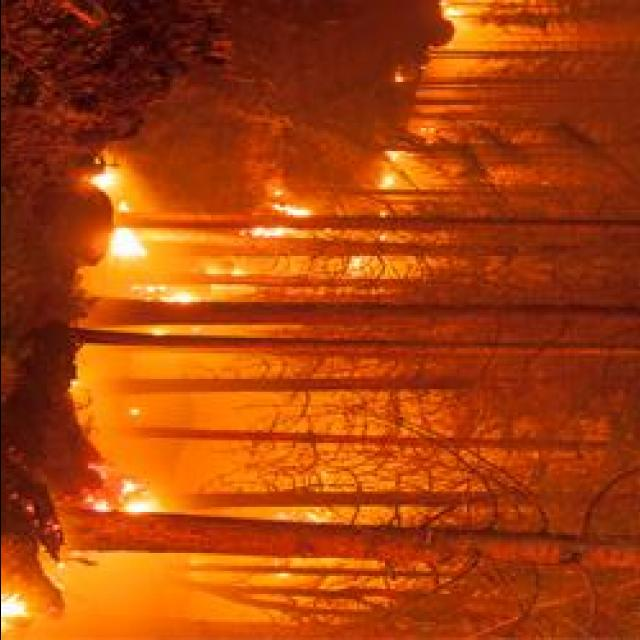fire: (438, 2, 526, 47), (0, 588, 31, 640), (108, 218, 146, 260), (87, 170, 121, 192), (162, 290, 198, 302), (285, 204, 313, 218), (128, 498, 151, 514), (376, 176, 398, 186)
smoke: (66, 550, 229, 634)
